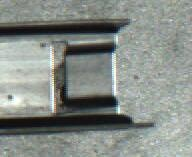press: (25, 17, 145, 131)
